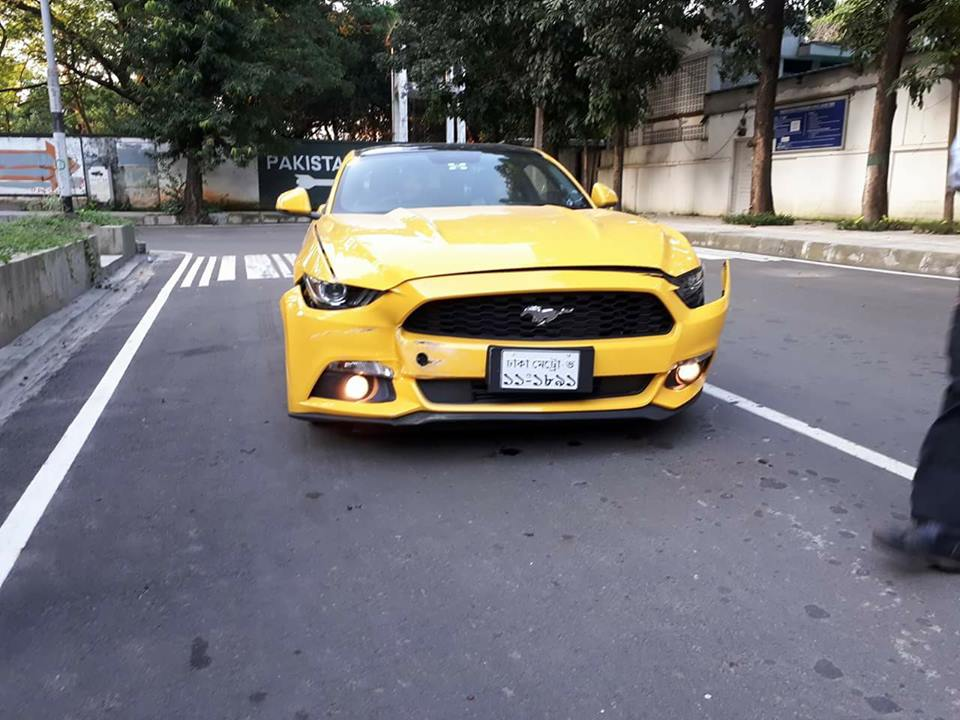registration_plate: (500, 348, 580, 389)
